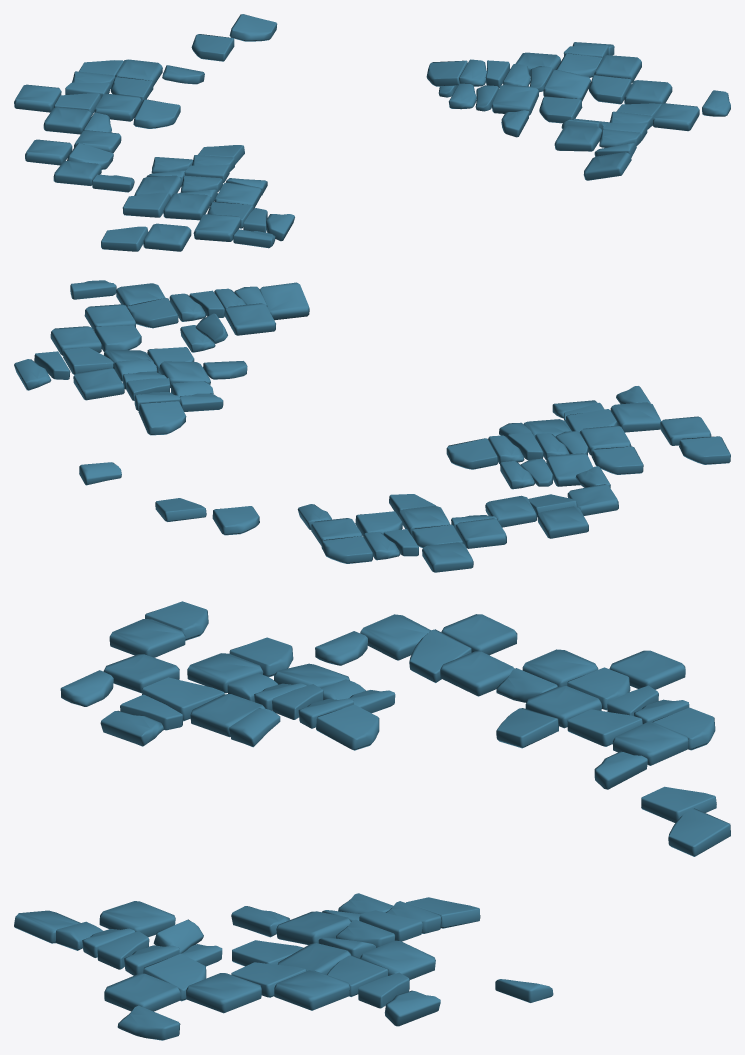
File: Floor_Break_06E_Lod0.fbx
3 renders of one model, top to bottom at view 1: azimuth 30°, elevation 25°; view 2: azimuth 150°, elevation 25°; view 3: azimuth 270°, elevation 25°, orthographic. The views are drawn at different scales.
Parts seen in each view (by area): view 1: Floor_Break_06E_Lod0; view 2: Floor_Break_06E_Lod0; view 3: Floor_Break_06E_Lod0.
Boxes of the visible parts, left/top/right/bottom form: Floor_Break_06E_Lod0: left=14, top=14, right=730, bottom=251; Floor_Break_06E_Lod0: left=14, top=280, right=730, bottom=572; Floor_Break_06E_Lod0: left=14, top=601, right=730, bottom=1040.
Bounding box in the file's own units: 905 × 79.46 × 636.
